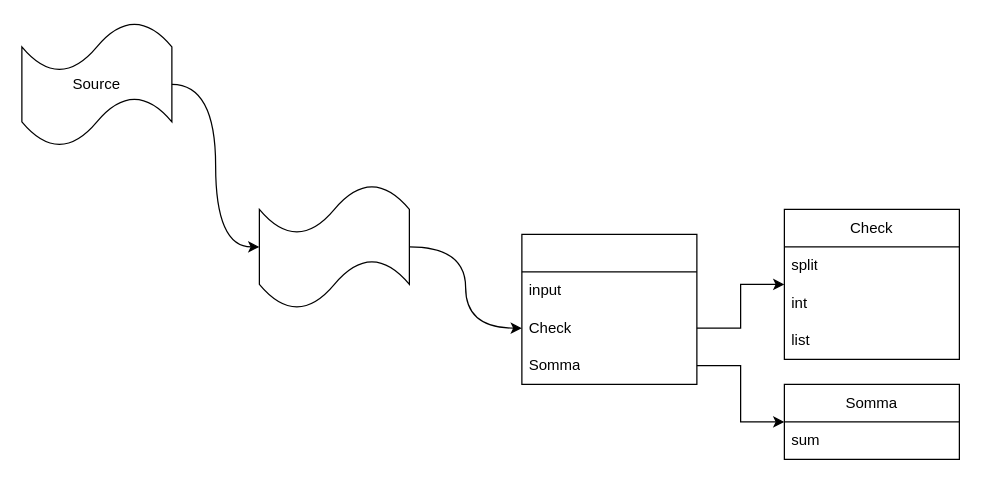
Some shapes in this 981 by 481 pixel diagram are drawn without their labels. Each missing label, with the box of its shape:
Main: (521, 233, 697, 384)
somma.py: (258, 183, 409, 309)
